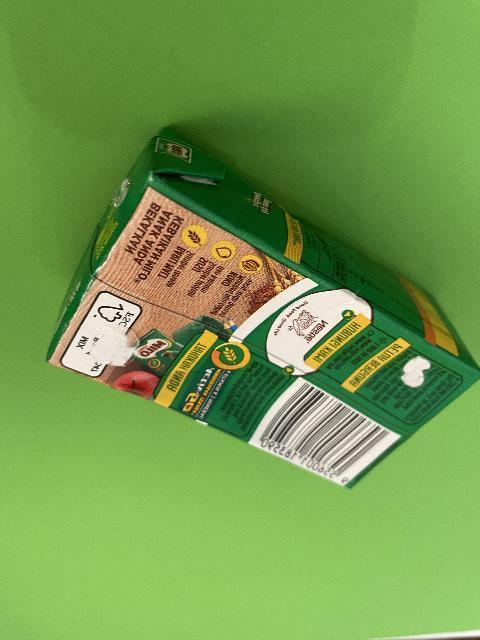drinkpack: (42, 124, 480, 492)
